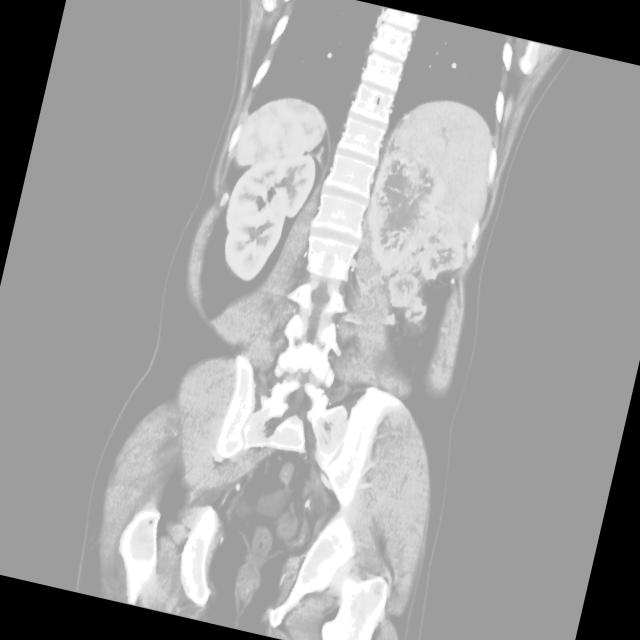TUMOR: (116, 74, 547, 421)
